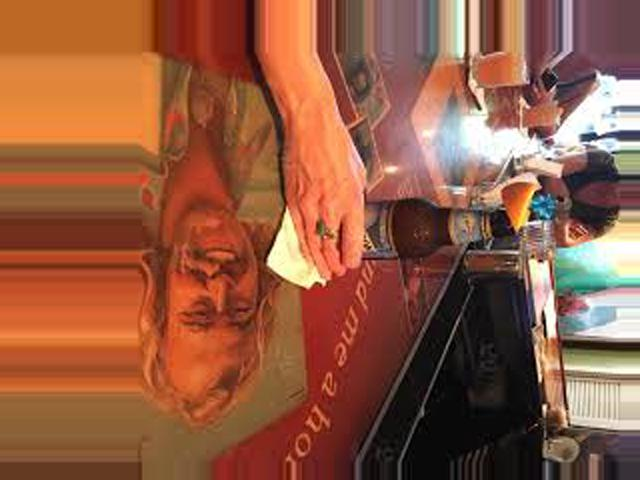beer: (298, 202, 518, 262)
